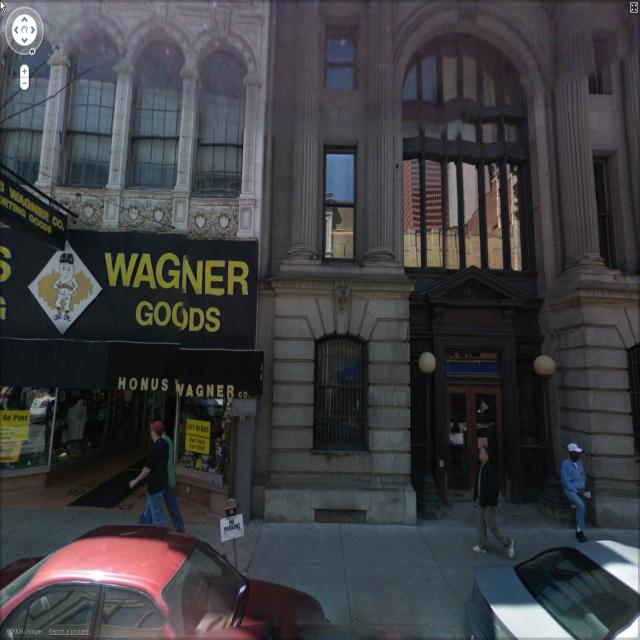b_1: (270, 8, 637, 534), (0, 6, 260, 486)
